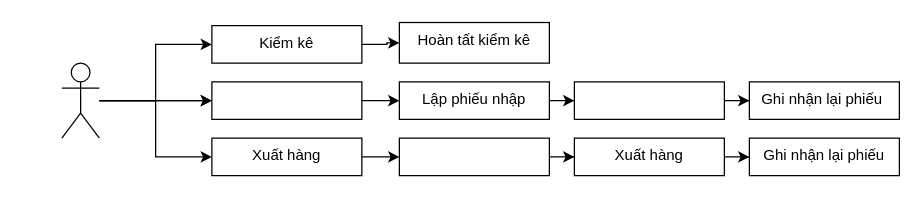
Some shapes in this 921 by 198 pixel diagram are drawn without their labels. Each missing label, with the centre of its shape:
Lập phiếu xuất: the point at 473,156
Nhận hàng: the point at 648,100
Nhập hàng: the point at 286,100
Quản lý kho hàng: the point at 80,100
